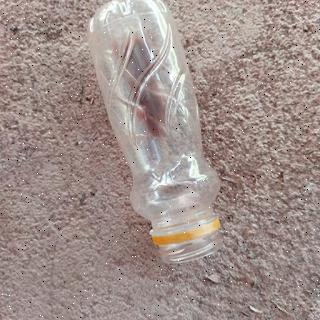Plastic-bottle: (87, 1, 223, 265)
